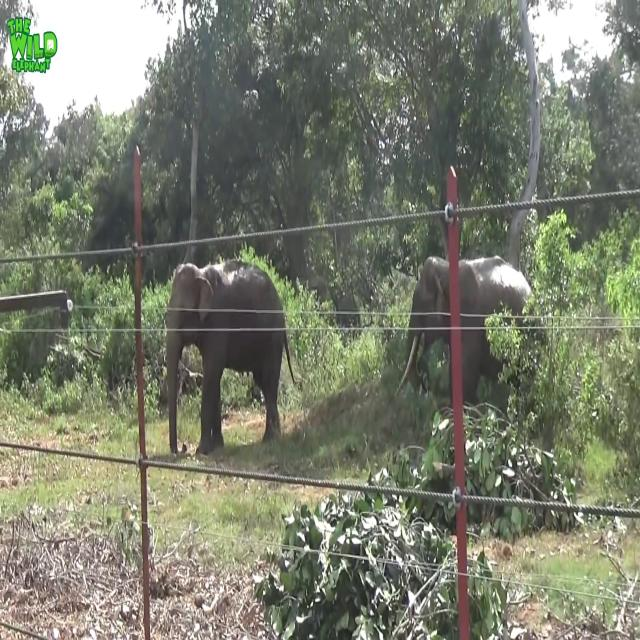Elephant: (165, 258, 295, 456), (398, 254, 537, 411)
